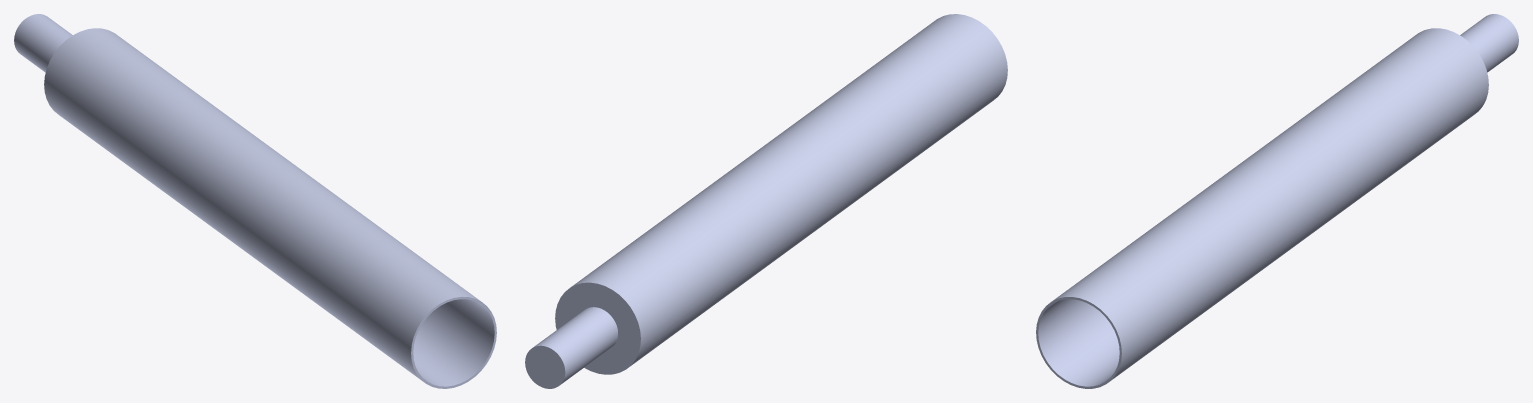
3 views of the same model, side by side, from view 1: azimuth 30°, elevation 25°; view 2: azimuth 150°, elevation 25°; view 3: azimuth 330°, elevation 25° (orthographic).
Visible parts, largest first — view 1: _ncl1_2, FBXASC0482; view 2: _ncl1_2, FBXASC0482; view 3: _ncl1_2, FBXASC0482.
Boxes of the visible parts, x1=… form: _ncl1_2: x1=44, y1=28, x2=480, y2=381; FBXASC0482: x1=14, y1=14, x2=496, y2=388; _ncl1_2: x1=571, y1=14, x2=1007, y2=368; FBXASC0482: x1=525, y1=282, x2=640, y2=388; _ncl1_2: x1=1053, y1=28, x2=1488, y2=380; FBXASC0482: x1=1036, y1=14, x2=1518, y2=388.
Bounding box in the file's own units: 0.32 × 0.32 × 2.71.
